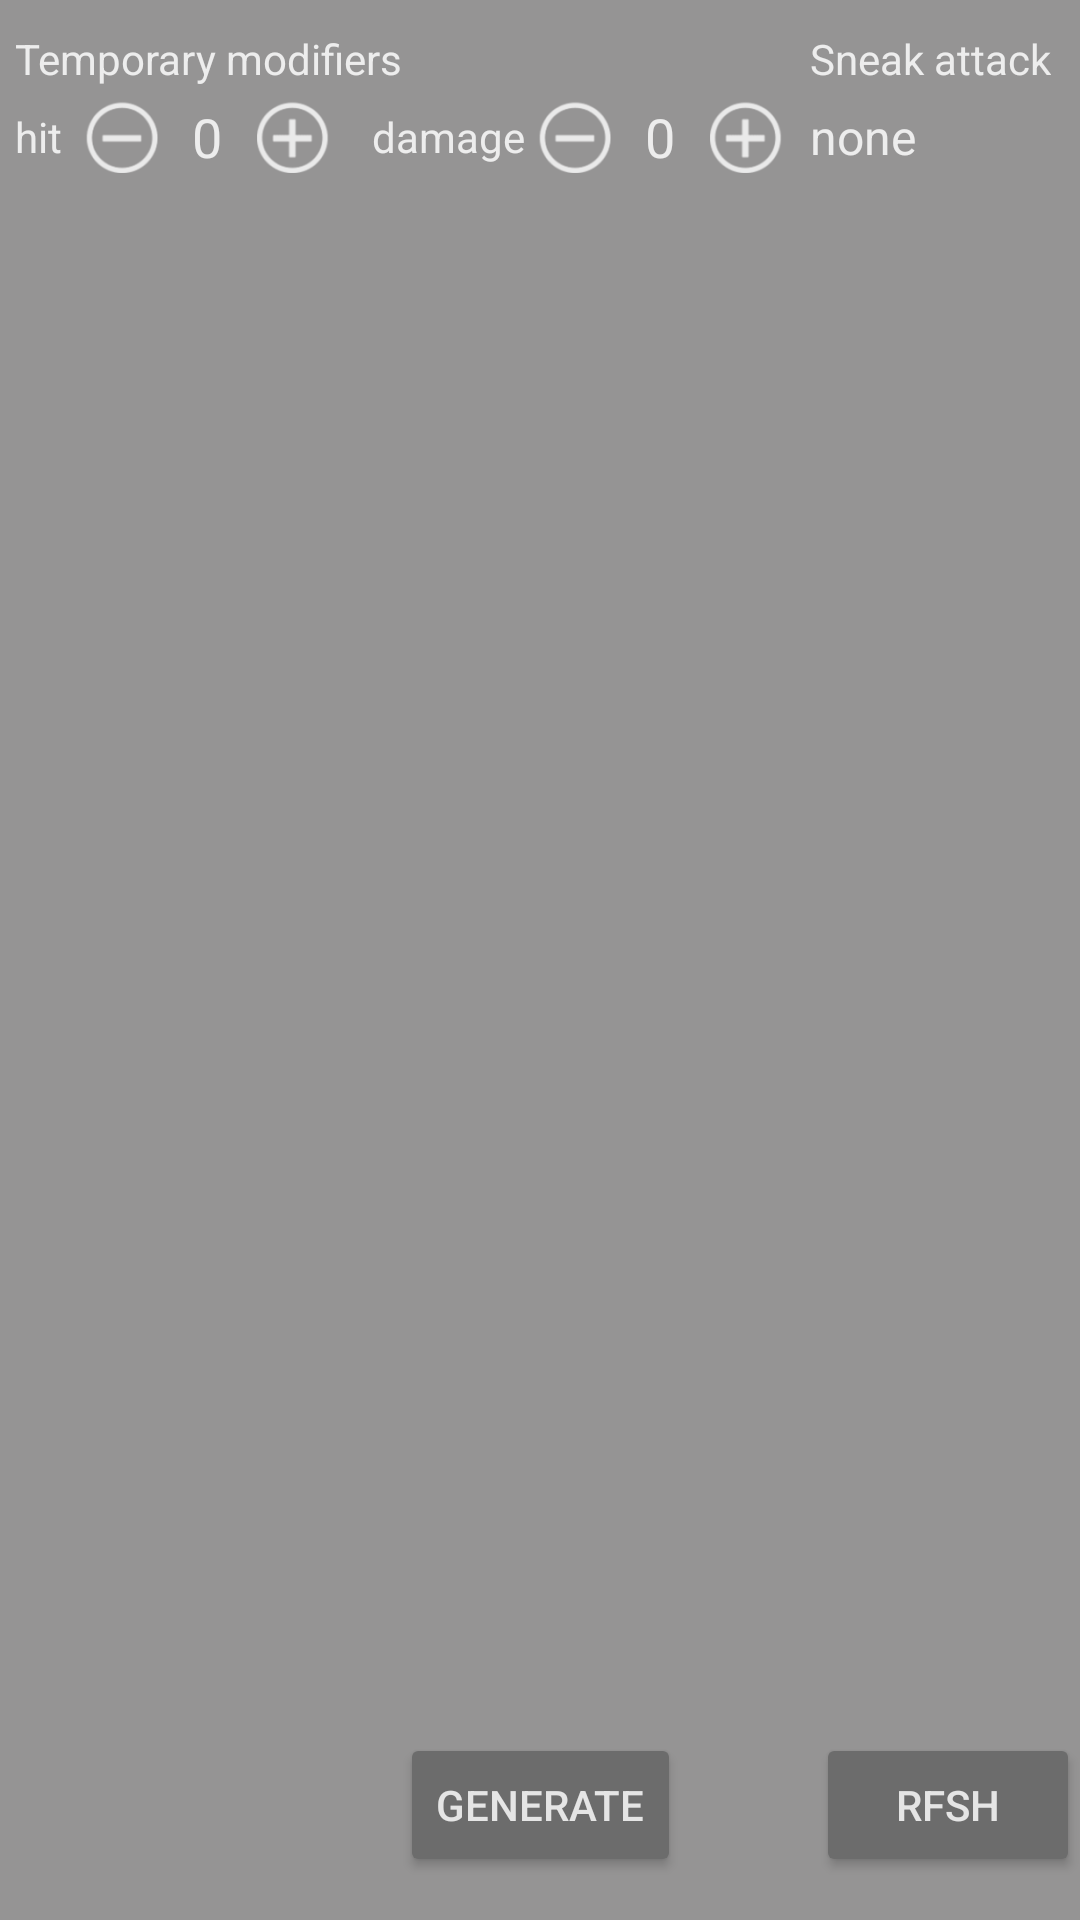

Screen size 1080 × 1920. Icon name, then its box in pixels as bbox=(x1, y1, x2, y2):
minus: bbox=(87, 102, 158, 173), bbox=(540, 102, 611, 173)
plus: bbox=(257, 102, 328, 173), bbox=(710, 102, 781, 173)
